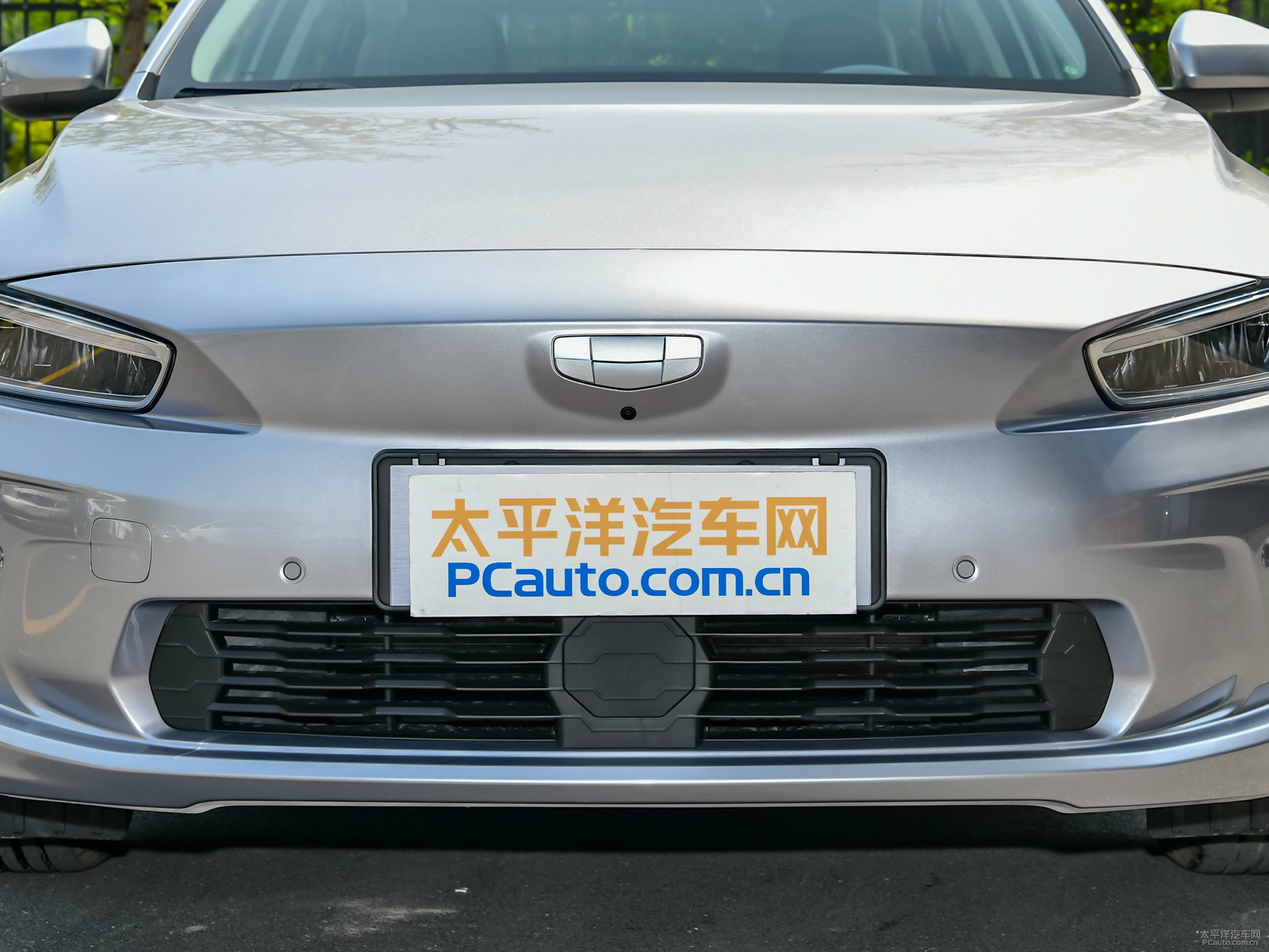GEOMETRY: (554, 336, 701, 389)
